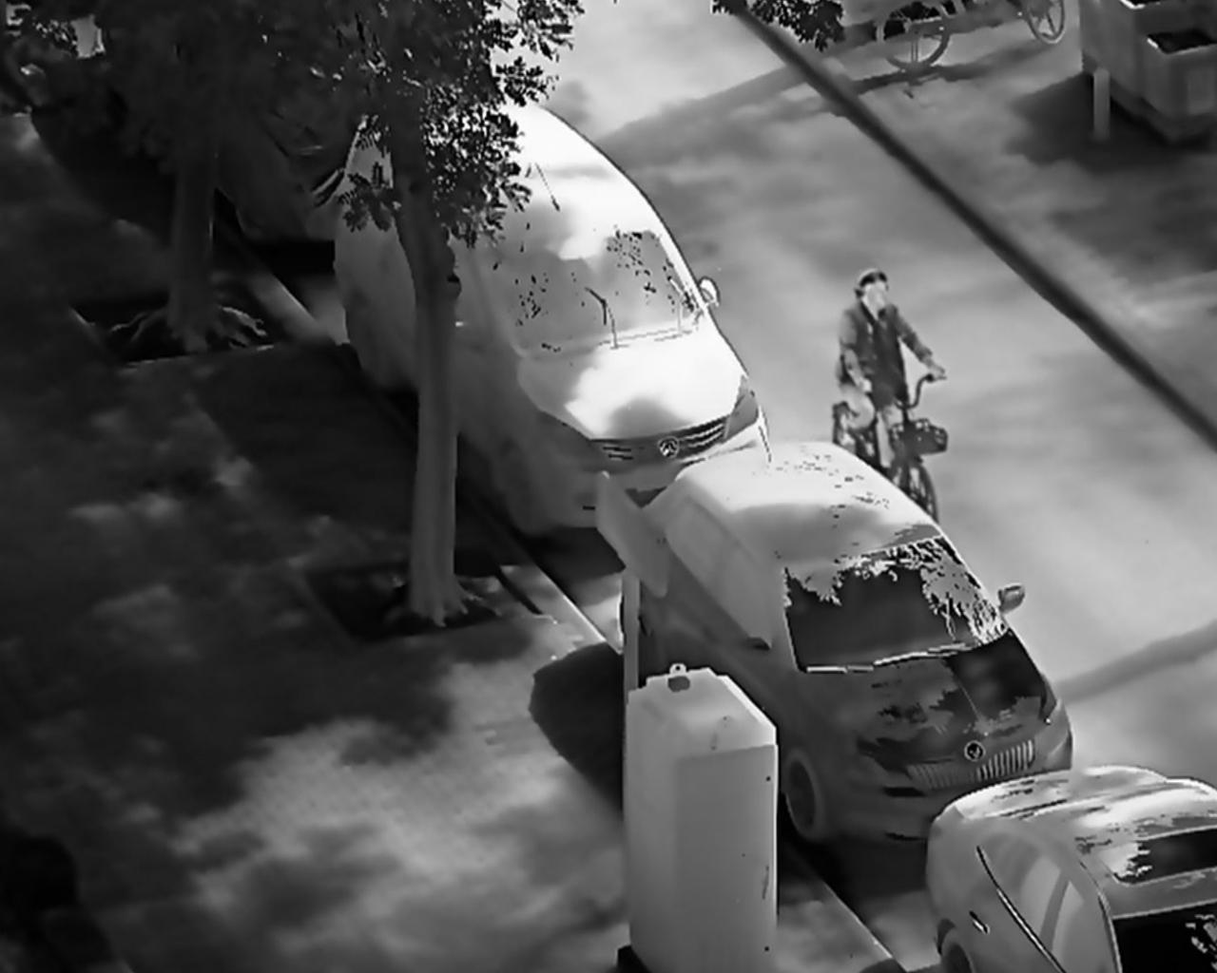person: (836, 267, 952, 457)
